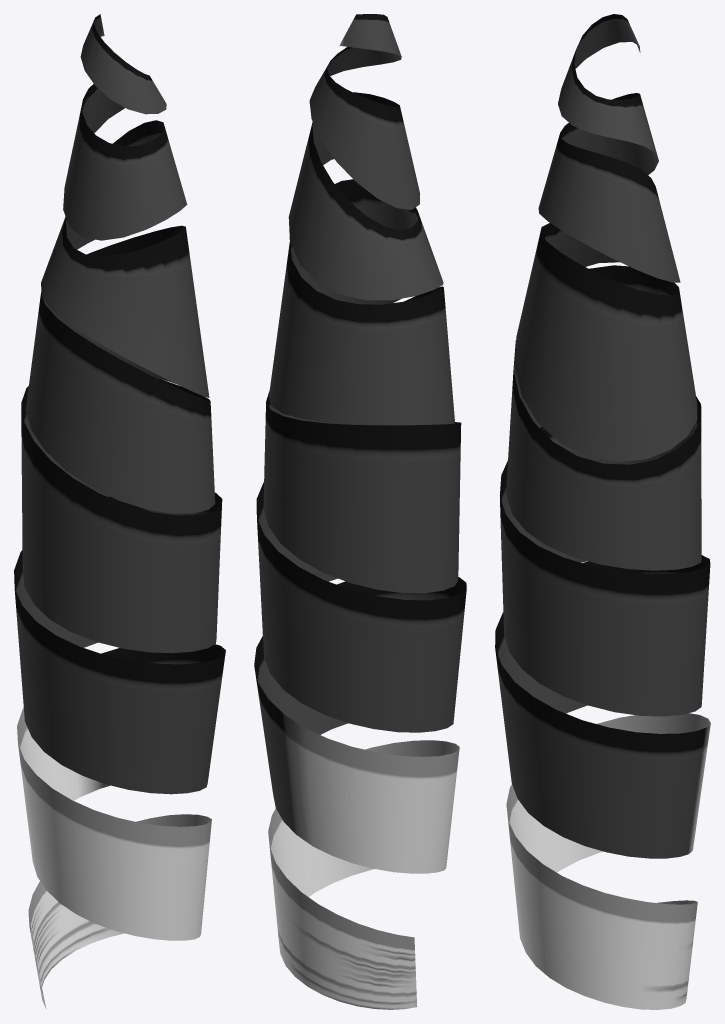
3 renders of one model, left to right at view 1: azimuth 30°, elevation 25°; view 2: azimuth 150°, elevation 25°; view 3: azimuth 270°, elevation 25°, orthographic.
Visible parts, largest first — view 1: swy_piaodai; view 2: swy_piaodai; view 3: swy_piaodai.
Boxes of the visible parts, x1,y1,x2,y2 form: swy_piaodai: (14, 14, 225, 1008); swy_piaodai: (254, 14, 466, 1009); swy_piaodai: (495, 14, 710, 1009).
Size of the model in its own units: 0.5482 by 2.8 by 0.5471.
Materials: 1 (1 with a texture image).
